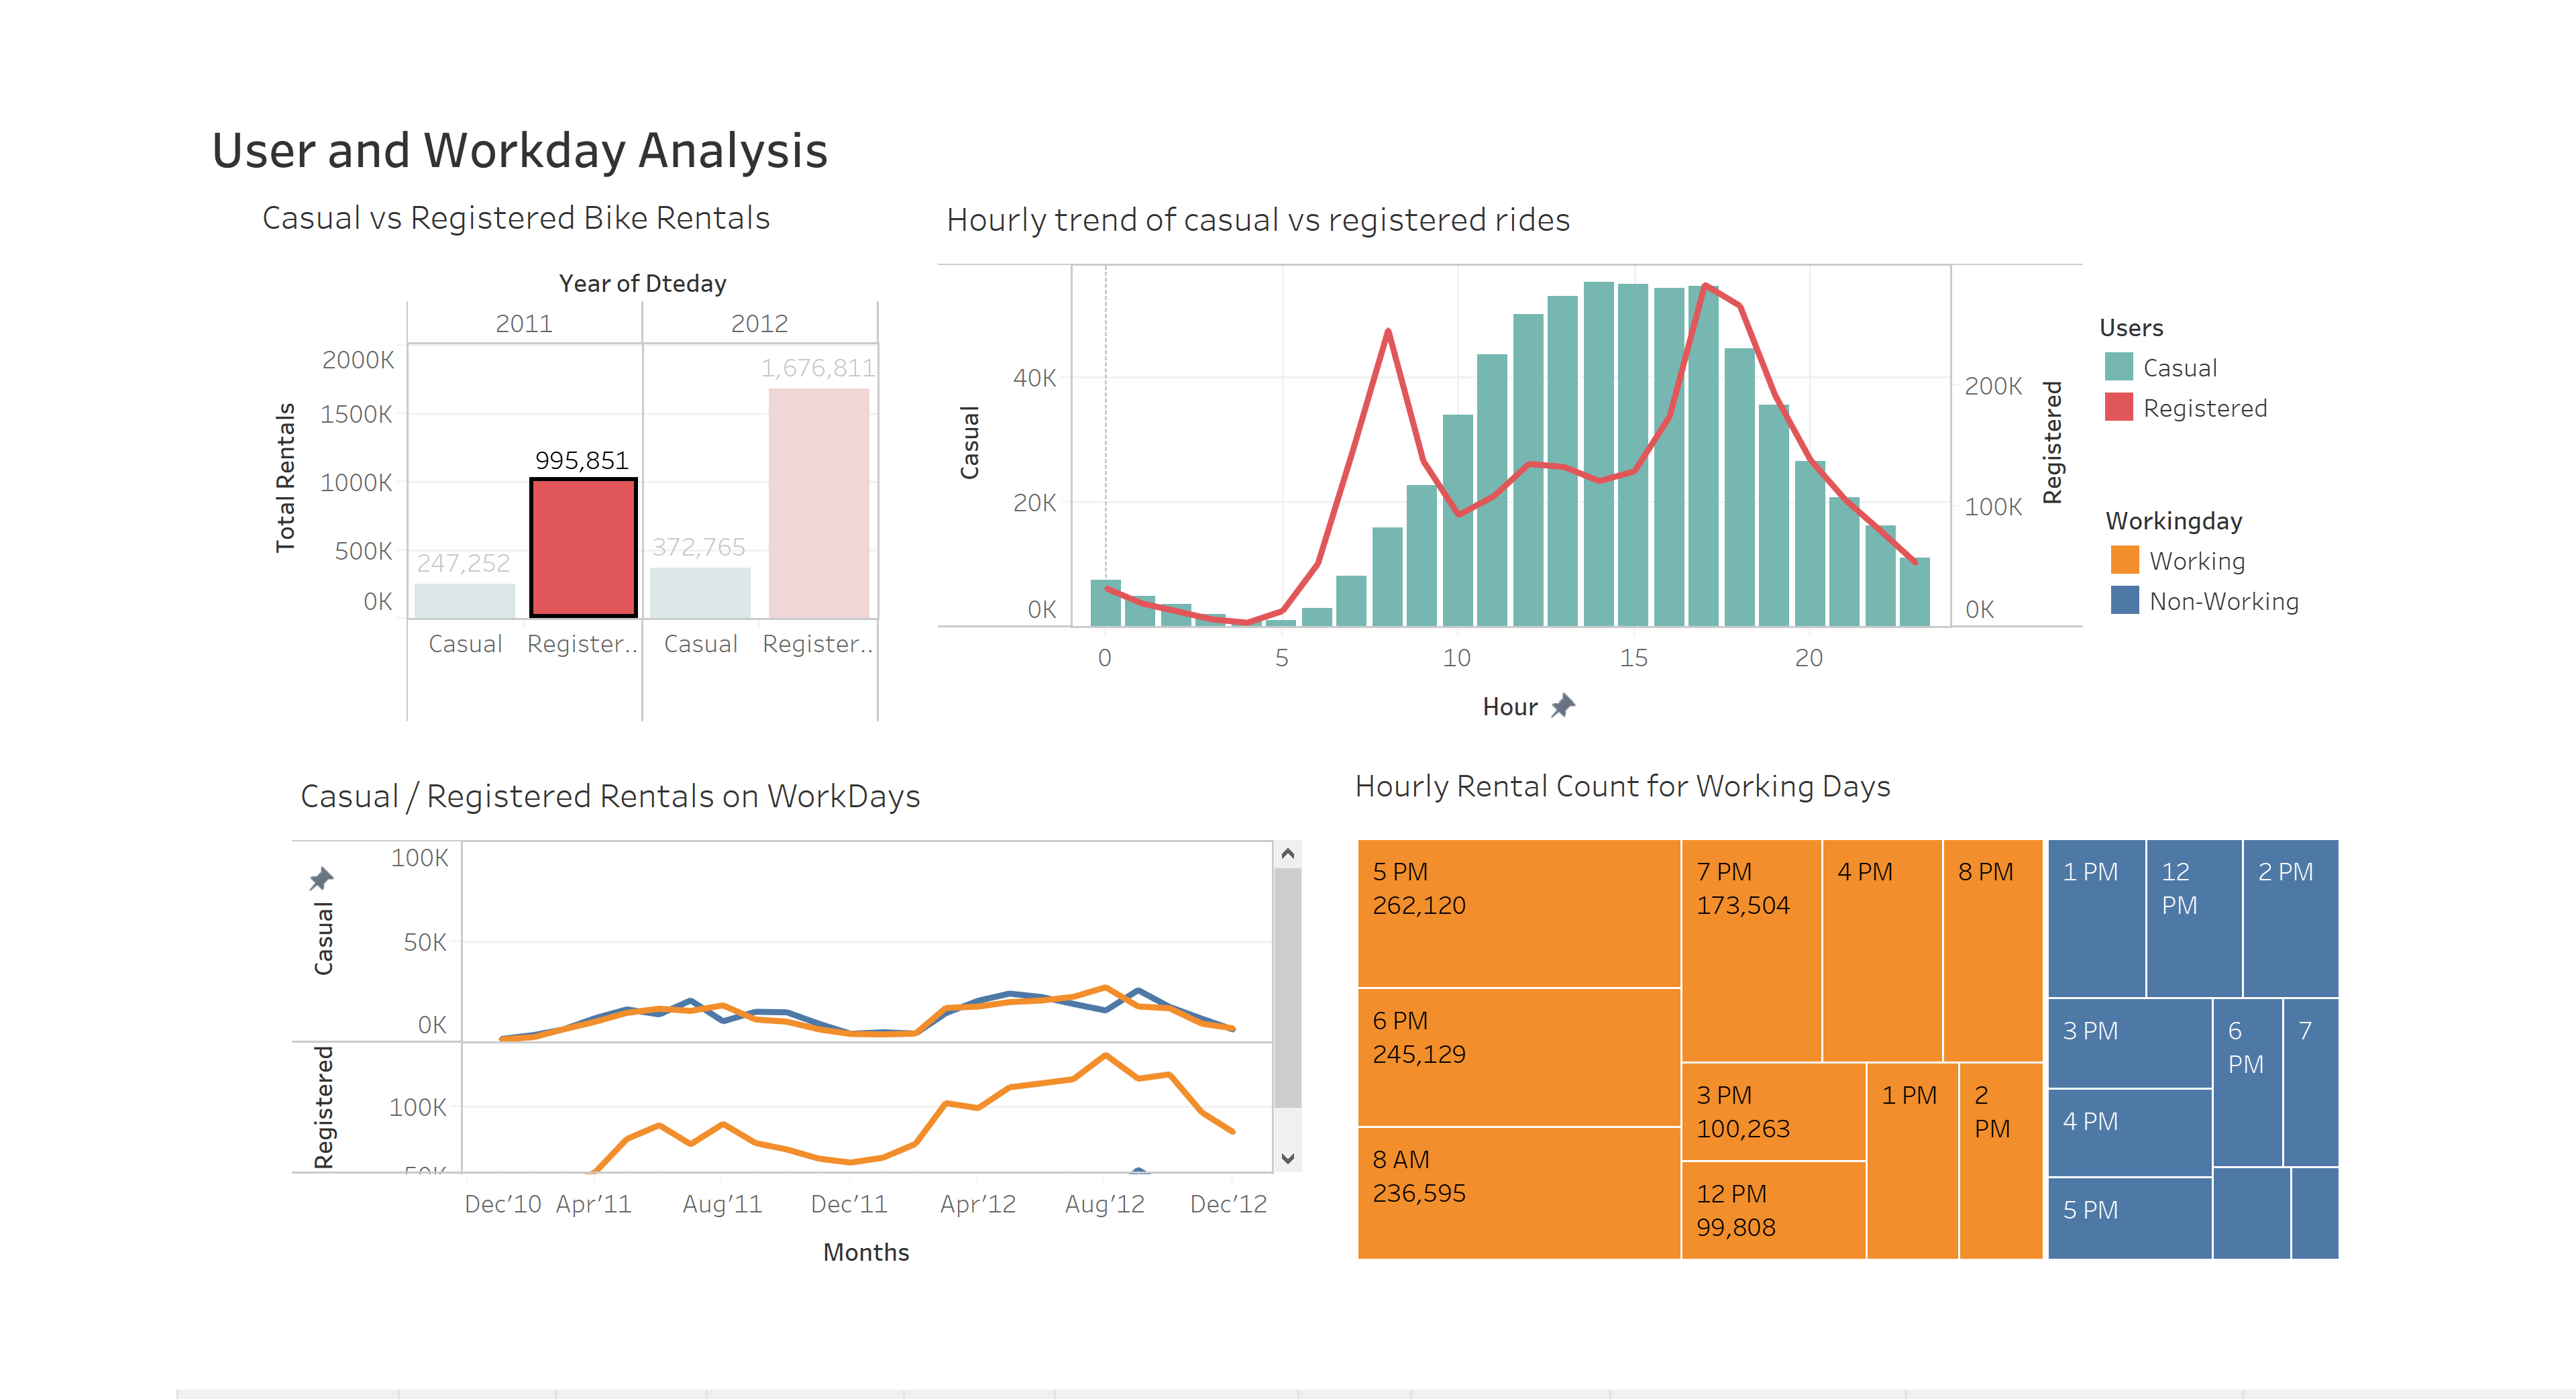

This screenshot's page, from the dashboard's own definition file:
{"tool":"tableau","page":{"name":"Casual/Reg","canvas":[1400,800],"ordinal":0},"visuals":[{"type":"title","box":[8,8,1384,41]},{"type":"worksheet","title":"Total Rentals YoY","mark":"Bar","cols":["dteday"],"box":[46,62,396,356]},{"type":"worksheet","title":"Hourly Trend","mark":"Automatic","rows":["casual","registered"],"cols":["hr"],"box":[479,64,725,365]},{"type":"legend","title":"Total Rentals YoY","param":"[federated.0spbyxi0awvzr61dq74bt0s79dd6].[:Measure Names]","box":[1232,95,140,64]},{"type":"worksheet","title":"tree map","mark":"Automatic","box":[737,440,634,340]},{"type":"worksheet","title":"Cas/Reg on W.day/off","mark":"Automatic","rows":["casual","registered"],"cols":["dteday"],"box":[70,445,639,345]}]}

Visuals, with their boxes on the page's 1400x800 design canvas (x1, y1, x2, y2). These are canvas units, not pixel positions in the 2576x1399 screenshot, which may show the page scaled, cropped or inside an application window:
title: {"left": 8, "top": 8, "right": 1392, "bottom": 49}
"Total Rentals YoY" worksheet (Bar marks): {"left": 46, "top": 62, "right": 442, "bottom": 418}
"Hourly Trend" worksheet: {"left": 479, "top": 64, "right": 1204, "bottom": 429}
"Total Rentals YoY" legend: {"left": 1232, "top": 95, "right": 1372, "bottom": 159}
"tree map" worksheet: {"left": 737, "top": 440, "right": 1371, "bottom": 780}
"Cas/Reg on W.day/off" worksheet: {"left": 70, "top": 445, "right": 709, "bottom": 790}
